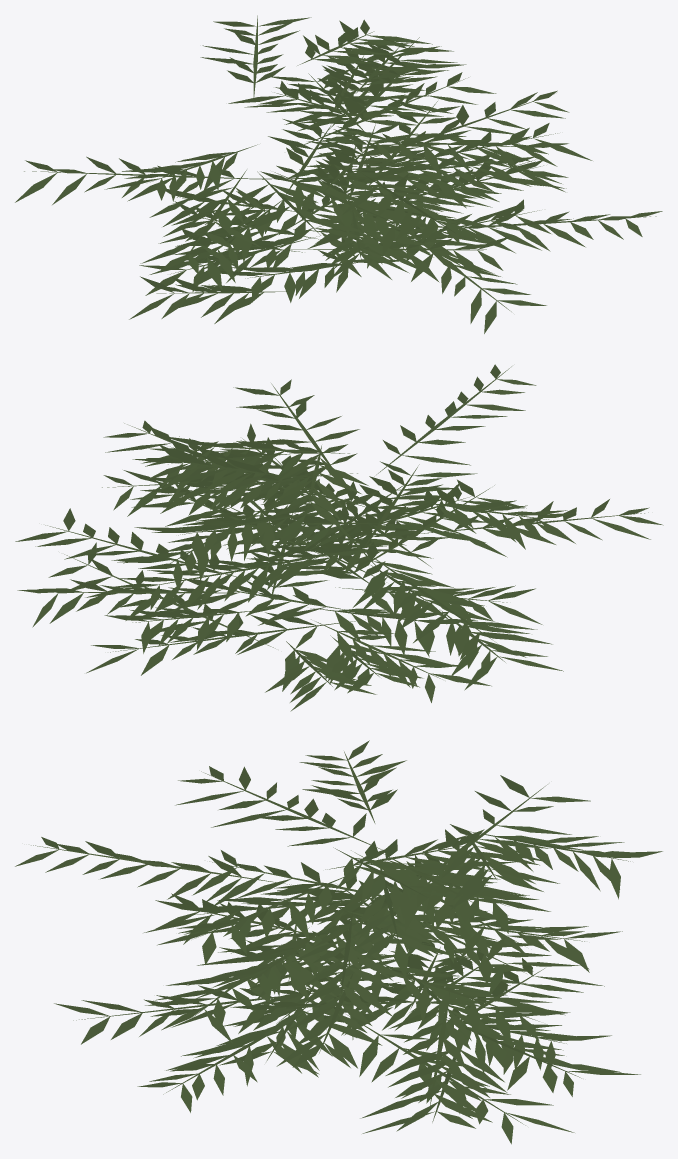
The model's file is leaves.glb.
3 views of the same model, one above another, from view 1: azimuth 30°, elevation 25°; view 2: azimuth 150°, elevation 25°; view 3: azimuth 270°, elevation 25° (orthographic). The views are drawn at different scales.
Parts seen in each view (by area): view 1: Bamboo leaves prototype; view 2: Bamboo leaves prototype; view 3: Bamboo leaves prototype.
Boxes of the visible parts, bbox=[...] form: Bamboo leaves prototype: bbox=[15, 15, 662, 333]; Bamboo leaves prototype: bbox=[15, 364, 663, 711]; Bamboo leaves prototype: bbox=[15, 740, 662, 1144].
Size of the model in its own units: 2.47 by 0.8556 by 2.26.
